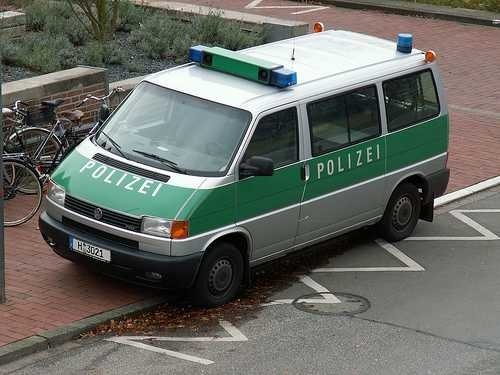Police Van: (46, 30, 449, 300)
